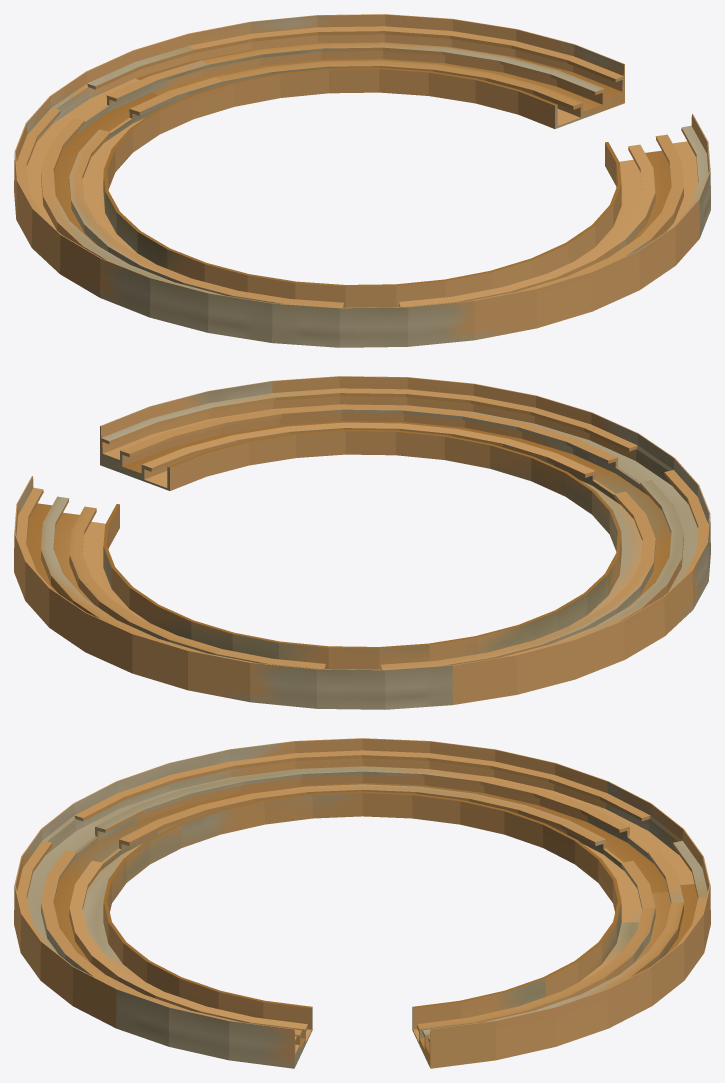
The model's file is Bleechers.fbx.
3 views of the same model, one above another, from view 1: azimuth 30°, elevation 25°; view 2: azimuth 150°, elevation 25°; view 3: azimuth 270°, elevation 25° (orthographic).
Visible parts, largest first — view 1: Bleachers; view 2: Bleachers; view 3: Bleachers.
Boxes of the visible parts, bbox=[...] form: Bleachers: bbox=[14, 14, 710, 347]; Bleachers: bbox=[14, 376, 710, 709]; Bleachers: bbox=[14, 738, 710, 1068].
Bounding box in the file's own units: 1944 × 122 × 1963.
